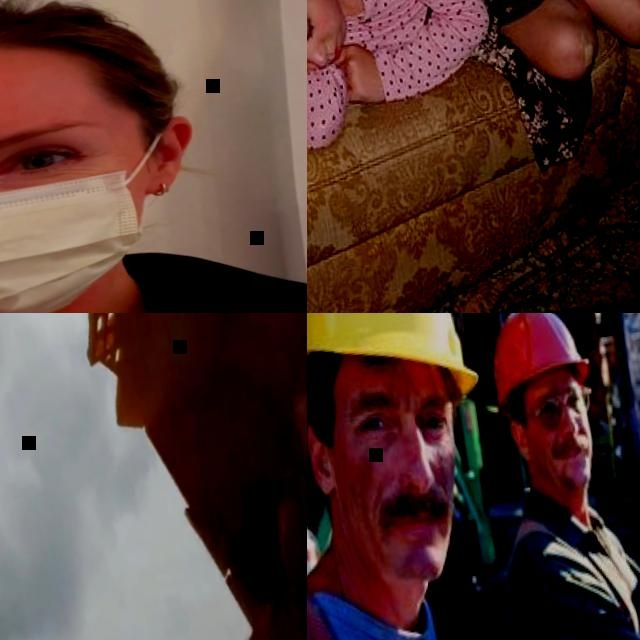Hardhat: (307, 313, 483, 405), (479, 313, 596, 419)
Mask: (0, 115, 184, 313)
NO-Hardhat: (0, 0, 156, 121)
NO-Mask: (337, 476, 468, 595), (531, 431, 602, 495), (313, 0, 351, 64)
NO-Safety Vest: (497, 507, 640, 640), (323, 0, 456, 58)
Person: (0, 0, 307, 313), (307, 313, 544, 640), (462, 313, 640, 640), (307, 0, 640, 169)
machinery: (62, 313, 307, 620)
